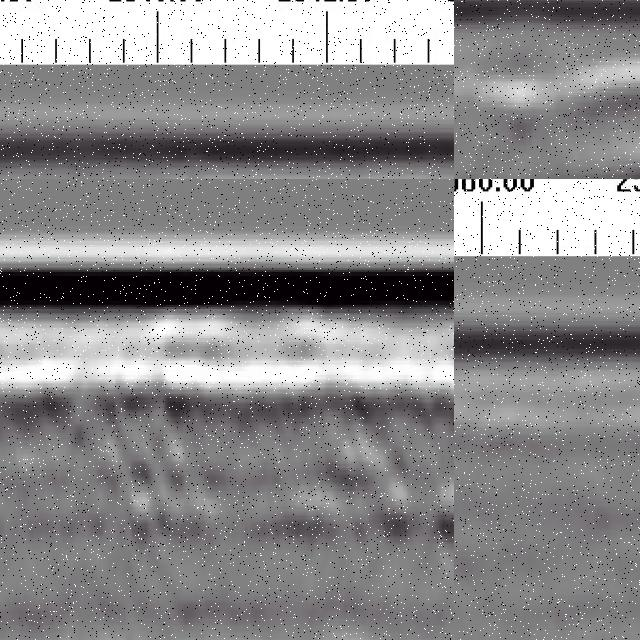loose: (116, 417, 455, 526)
